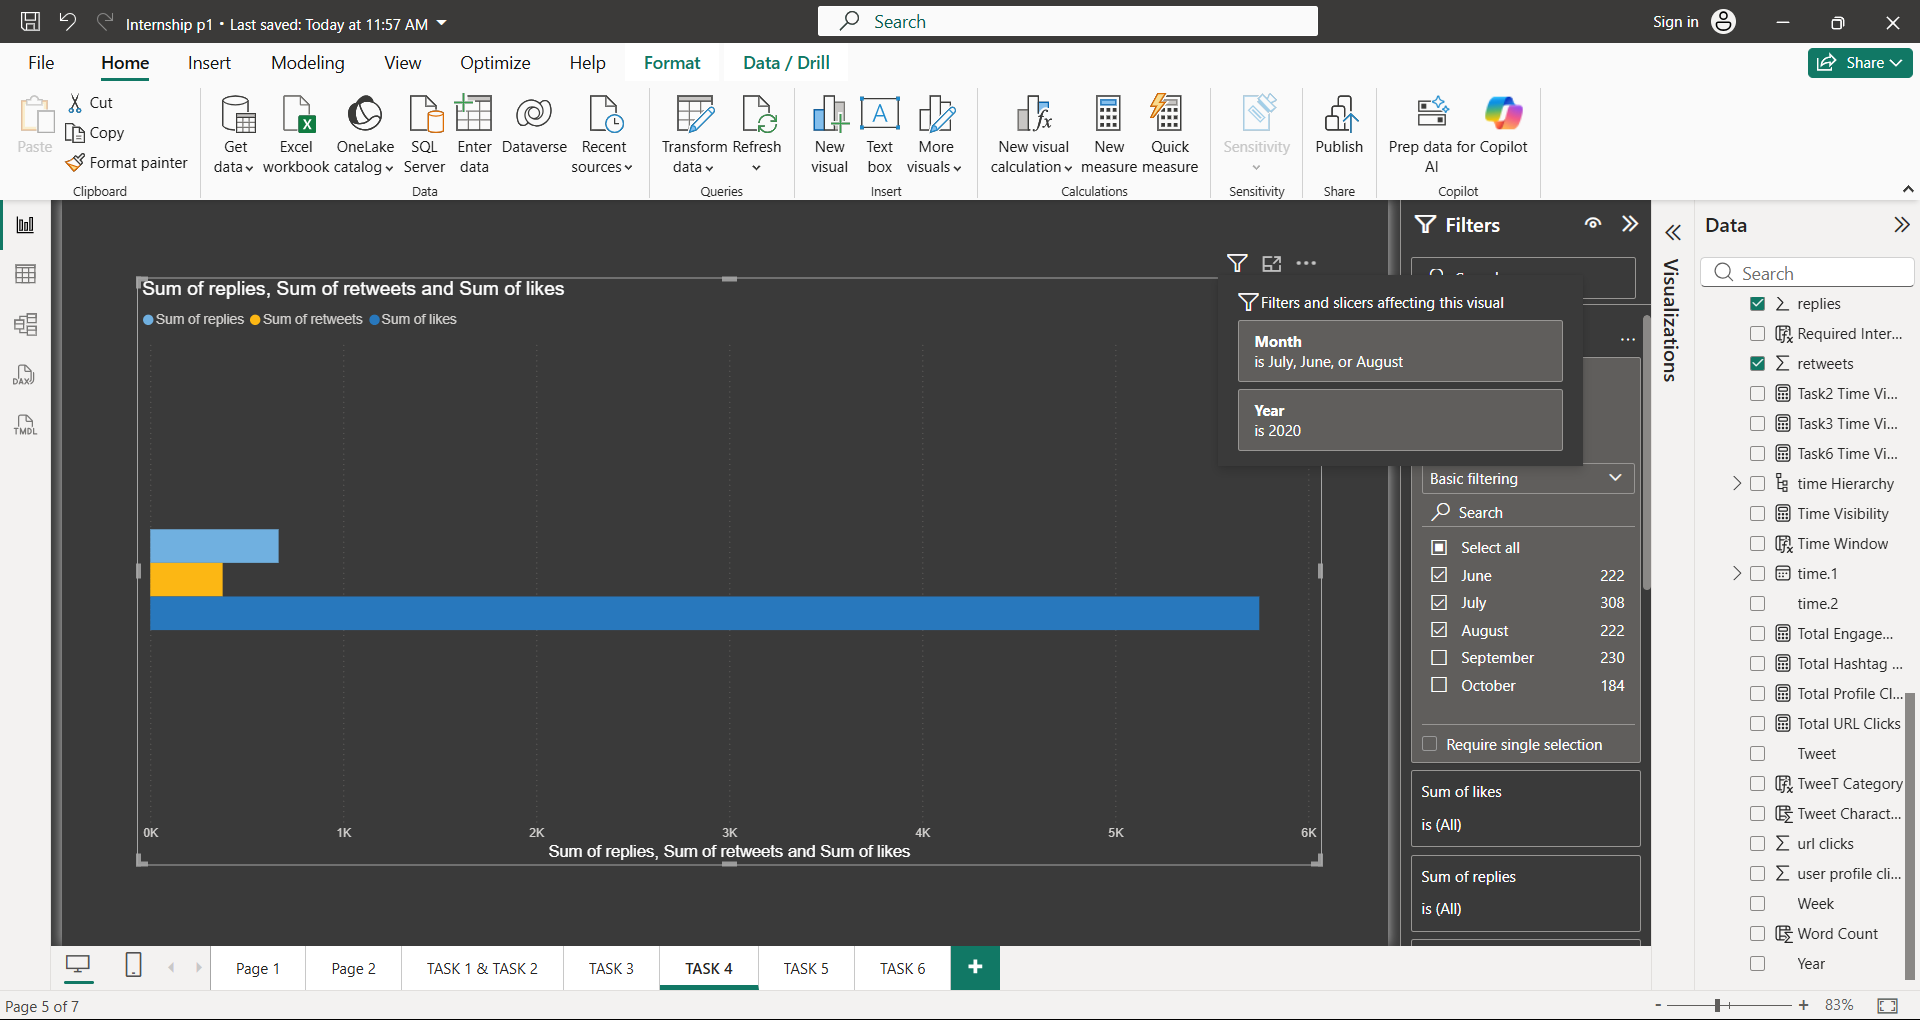

The page's visual inventory and layout, read from the dashboard file:
{"tool":"powerbi","page":{"name":"TASK 4","canvas":[1280,720],"ordinal":4},"visuals":[{"type":"clusteredBarChart","fields":{"Y":["Sum(SocialMedia (1).replies)","Sum(SocialMedia (1).retweets)","Sum(SocialMedia (1).likes)"]},"box":[11.6,0,1241.4,670.8],"z":0}]}

Visuals, with their boxes on the page's 1280x720 design canvas (x1, y1, x2, y2). These are canvas units, not pixel positions in the 1920x1020 screenshot, which may show the page scaled, cropped or inside an application window:
clusteredBarChart - Sum(SocialMedia (1).replies) x Sum(SocialMedia (1).retweets): 12/0/1253/671
